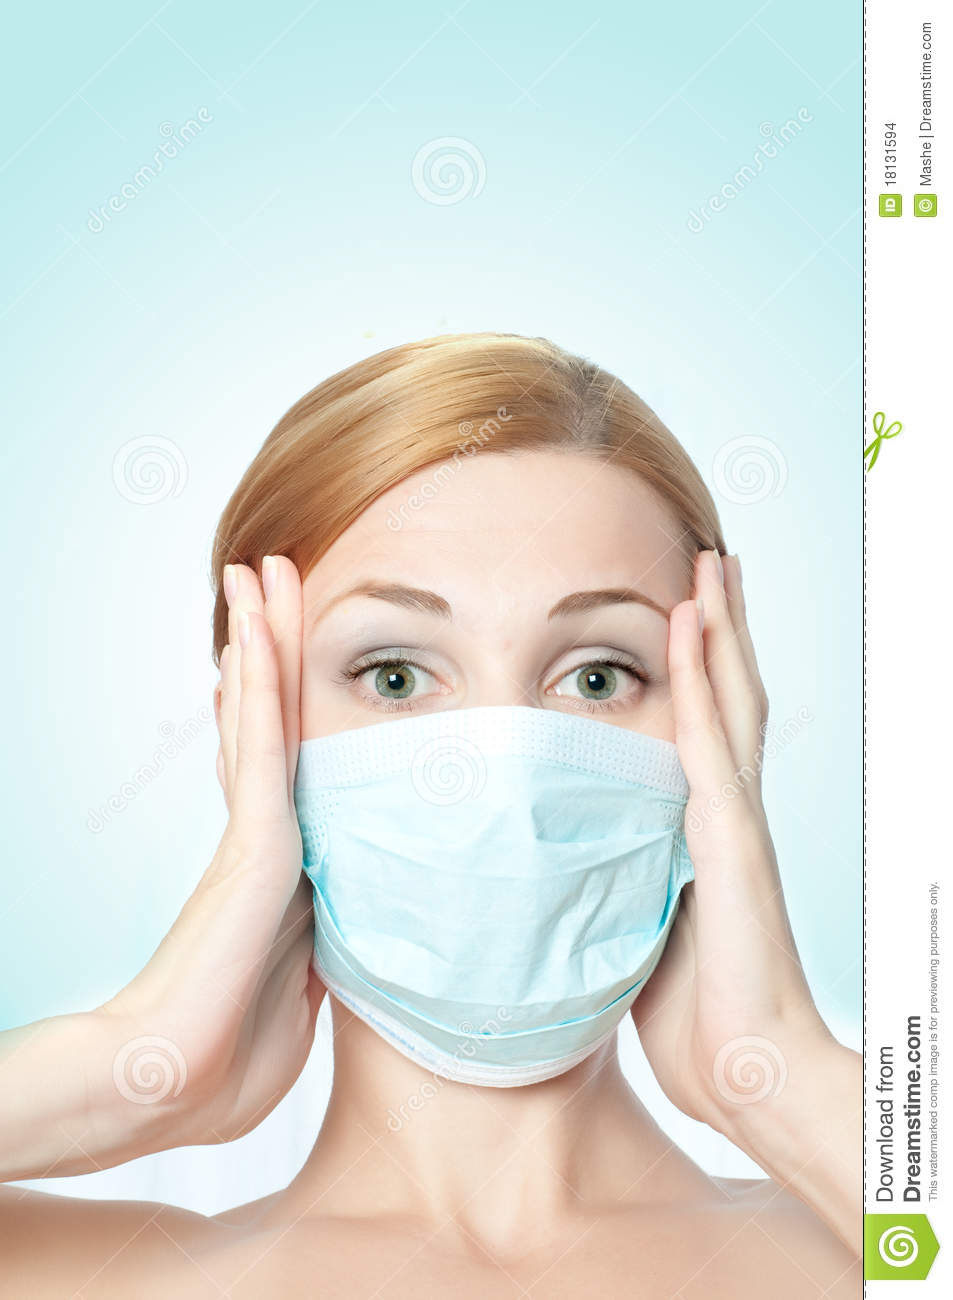mask: (276, 721, 692, 1073)
